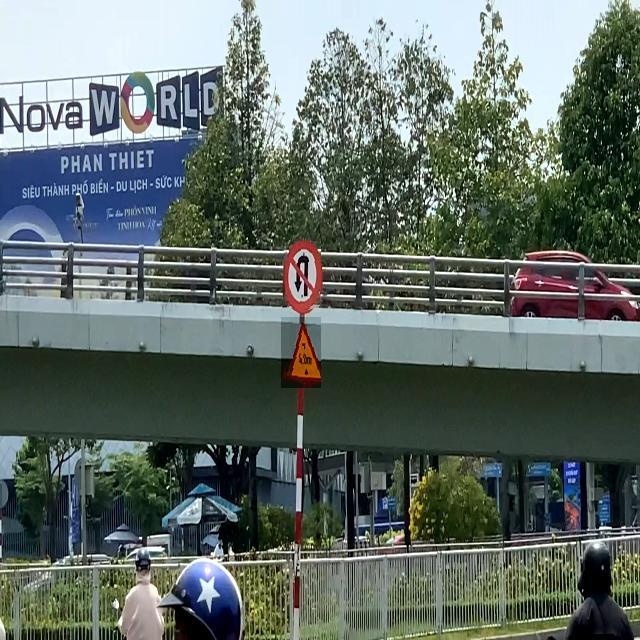P-124a: (285, 241, 321, 312)
S-509a: (281, 317, 321, 388)
